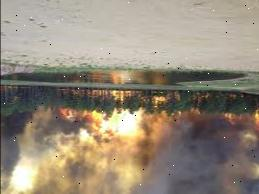fire: (52, 110, 152, 144), (217, 114, 259, 130)
